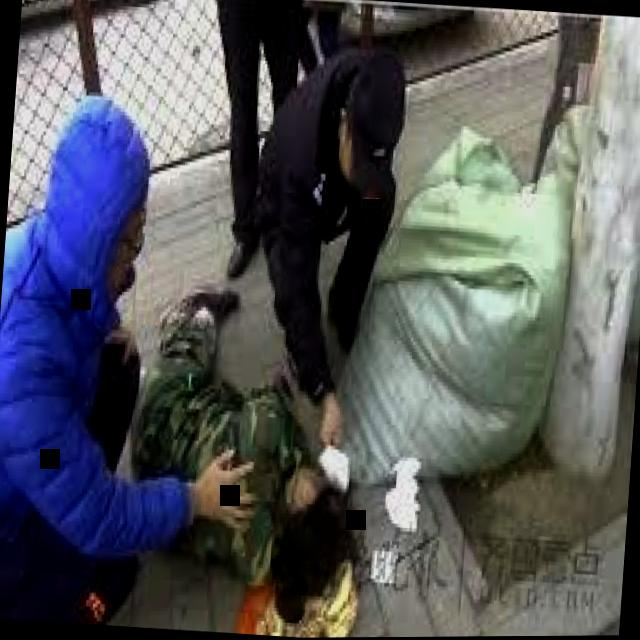Fall-Detected: (110, 252, 387, 633)
